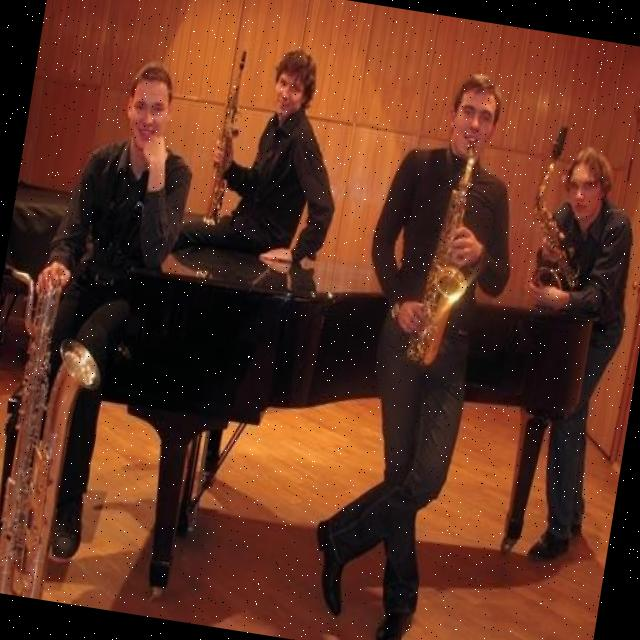saxophone: (0, 247, 121, 602), (396, 136, 493, 373), (512, 119, 613, 312)
